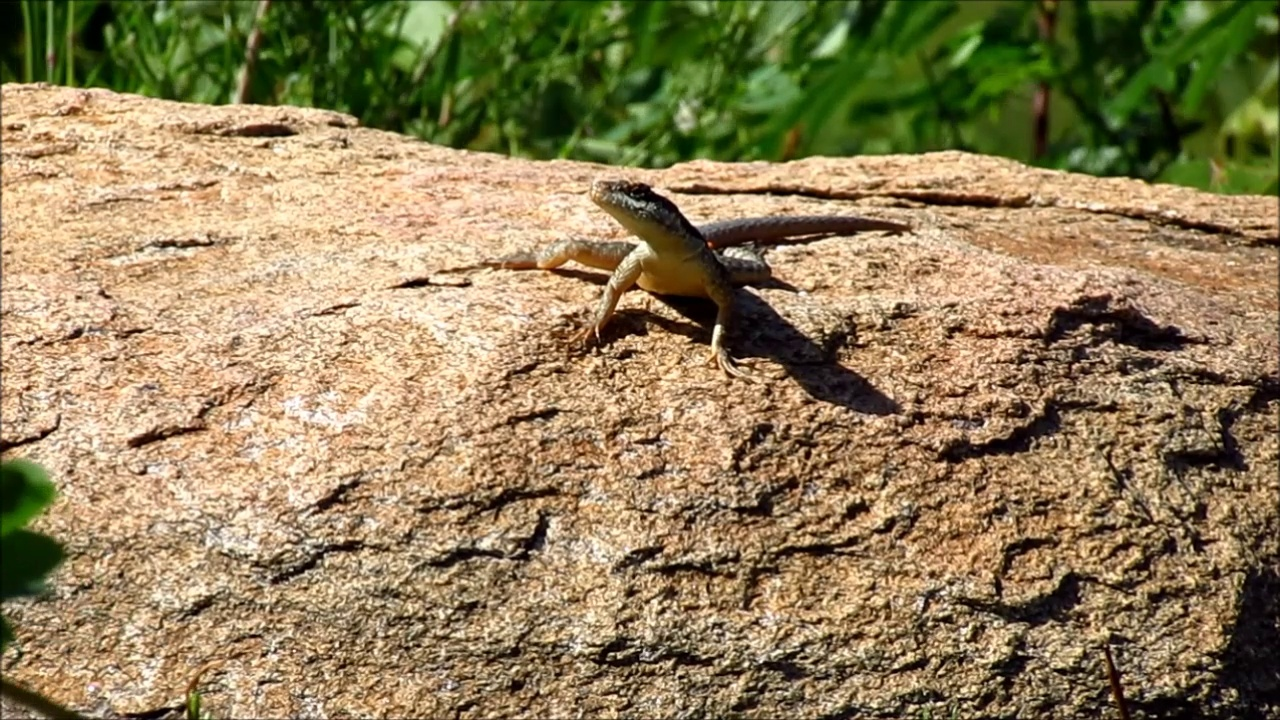body: (478, 212, 914, 389)
head: (589, 178, 678, 238)
